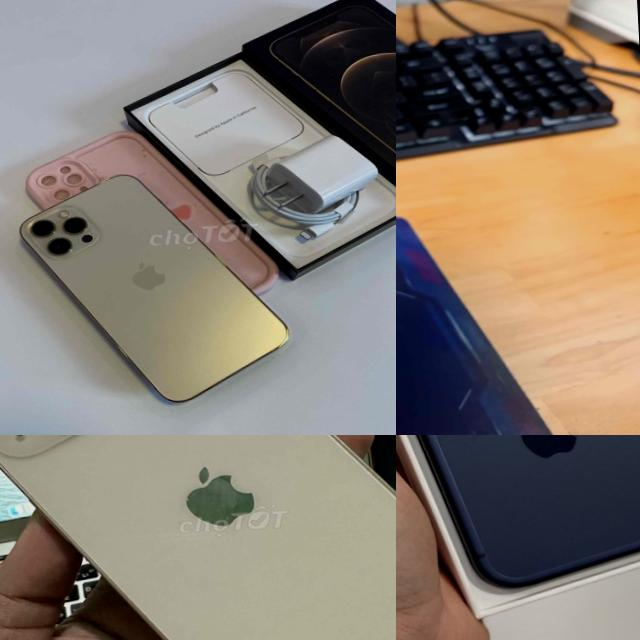gen_12_13: (0, 435, 396, 640), (14, 165, 296, 415)
gen_17: (396, 435, 640, 603)
